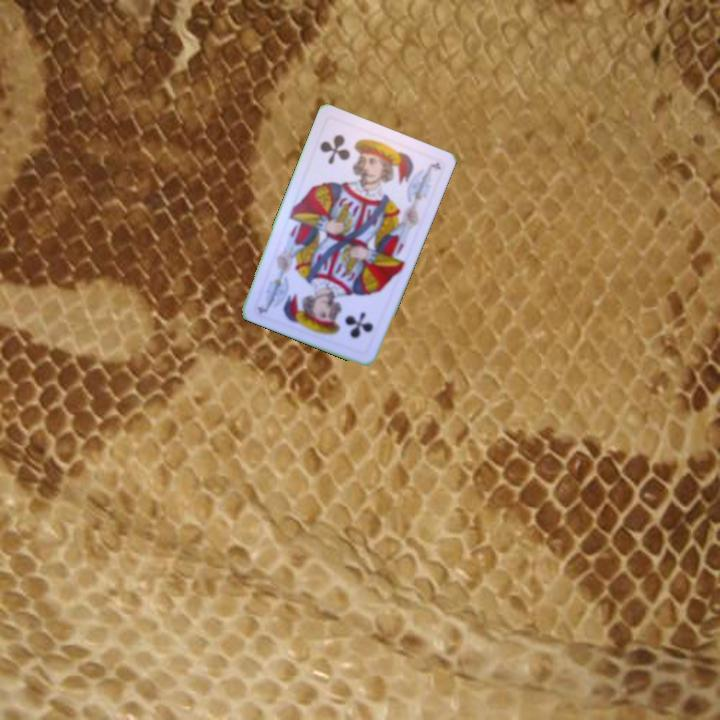c_j.png: (306, 280, 388, 357), (306, 115, 388, 192)
